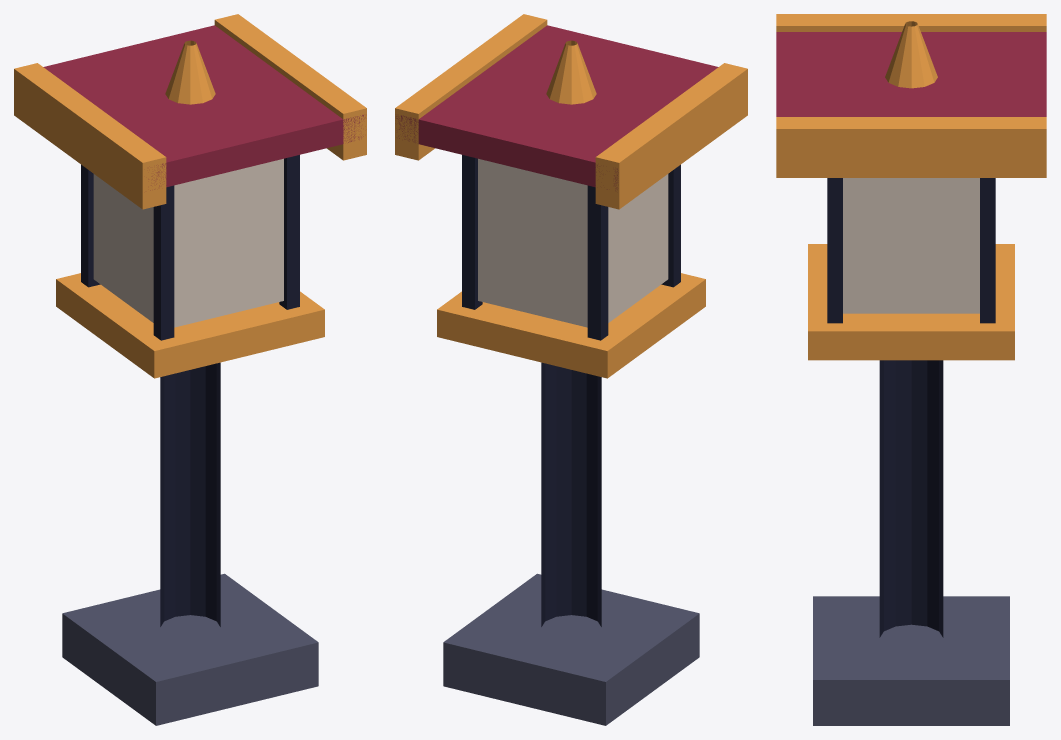
The model's file is KGB_Dojo_SpiritLantern_v16.obj.
The picture shows the model from 3 angles, left to right: view 1: azimuth 30°, elevation 25°; view 2: azimuth 150°, elevation 25°; view 3: azimuth 270°, elevation 25°; orthographic projection. The views are drawn at different scales.
Visible parts, largest first — view 1: KGB_Dojo_SpiritLantern_v16; view 2: KGB_Dojo_SpiritLantern_v16; view 3: KGB_Dojo_SpiritLantern_v16.
Part boxes in pixels (bbox=[...]): KGB_Dojo_SpiritLantern_v16: bbox=[14, 14, 366, 725]; KGB_Dojo_SpiritLantern_v16: bbox=[395, 14, 747, 725]; KGB_Dojo_SpiritLantern_v16: bbox=[776, 14, 1046, 725].
Size of the model in its own units: 1.71 by 4.58 by 1.7.
